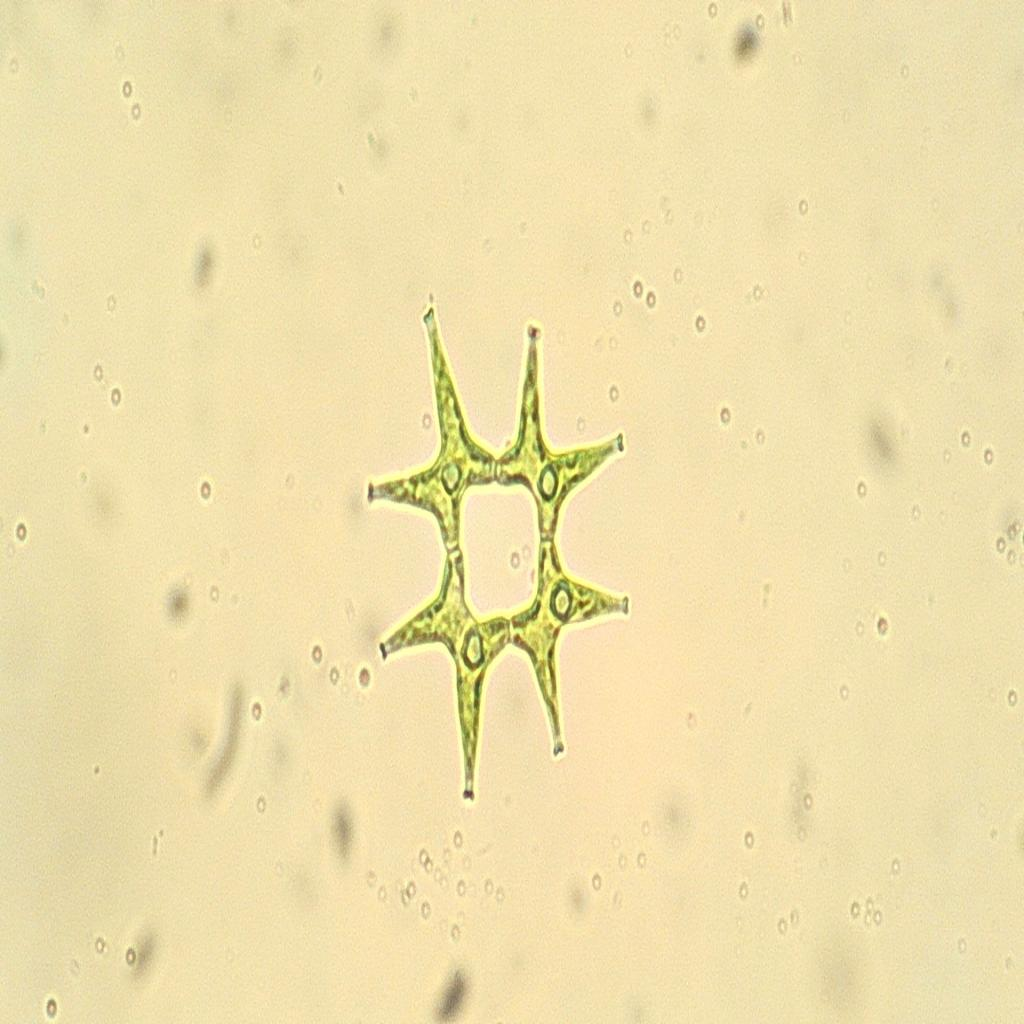Pediastrum_75O: (356, 295, 650, 811)
